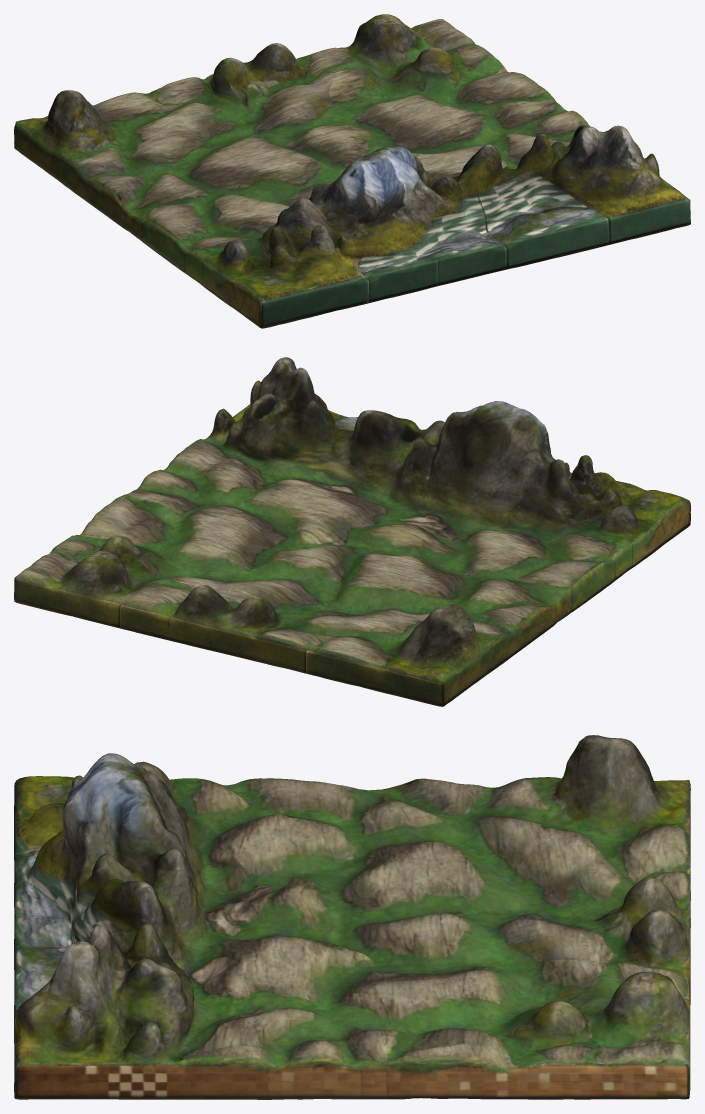
File: create_a_chess_tile_t_1107010620_refine.fbx
The picture shows the model from 3 angles, top to bottom: view 1: azimuth 30°, elevation 25°; view 2: azimuth 150°, elevation 25°; view 3: azimuth 270°, elevation 25°; orthographic projection. The views are drawn at different scales.
Visible parts, largest first — view 1: Mesh1_Mesh1.032; view 2: Mesh1_Mesh1.032; view 3: Mesh1_Mesh1.032.
Part boxes in pixels (<box>): Mesh1_Mesh1.032: <box>14,14,690,328</box>; Mesh1_Mesh1.032: <box>14,357,690,706</box>; Mesh1_Mesh1.032: <box>14,735,690,1099</box>.
Bounding box in the file's own units: 200 × 49.18 × 200.
1 material, 1 textured.
